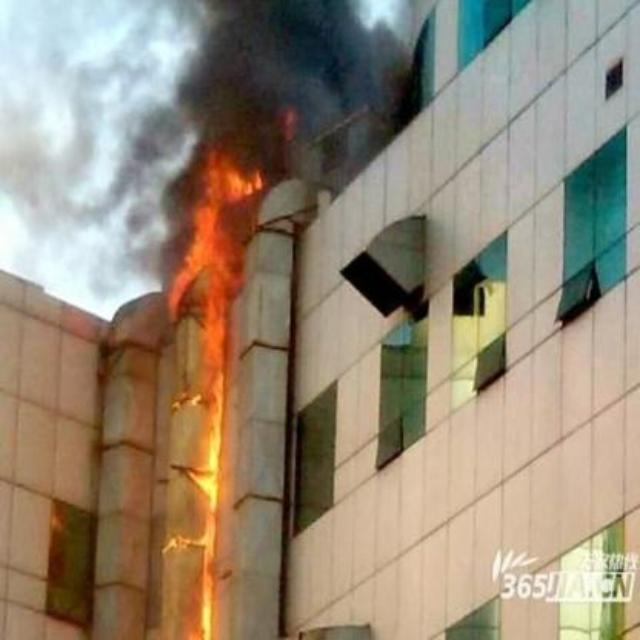Fire: (180, 136, 256, 640), (280, 103, 300, 151)
Smoke: (203, 9, 401, 106)
